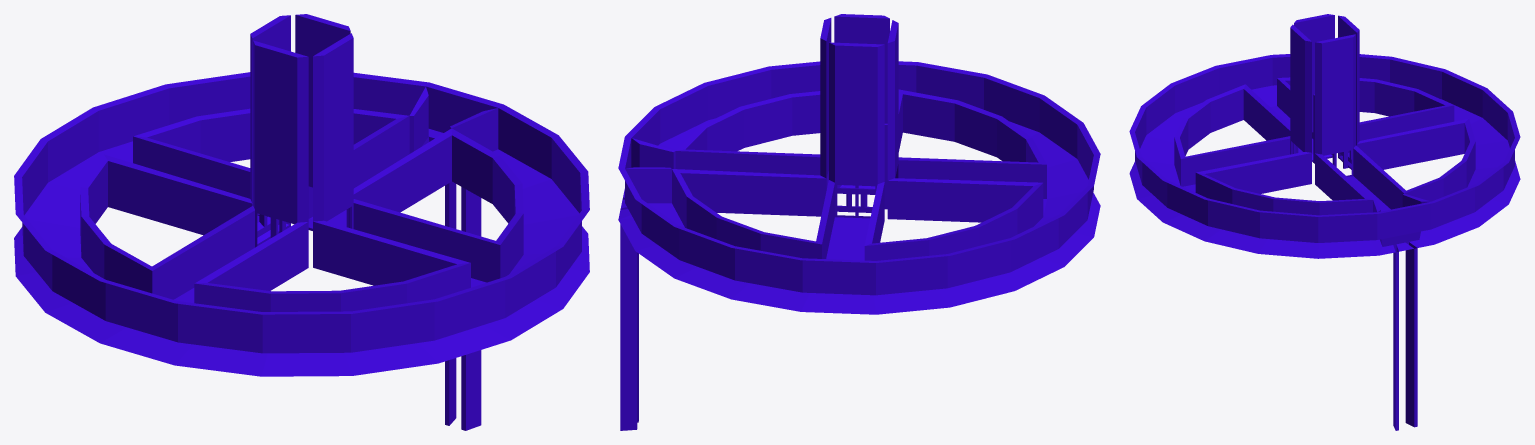
The model's file is HeavyHall.fbx.
The picture shows the model from 3 angles, left to right: view 1: azimuth 30°, elevation 25°; view 2: azimuth 150°, elevation 25°; view 3: azimuth 270°, elevation 25°; orthographic projection. The views are drawn at different scales.
Visible parts, largest first — view 1: Heavy_Vent_Halls; view 2: Heavy_Vent_Halls; view 3: Heavy_Vent_Halls.
Boxes of the visible parts, bbox=[...] form: Heavy_Vent_Halls: bbox=[14, 14, 589, 430]; Heavy_Vent_Halls: bbox=[618, 14, 1100, 430]; Heavy_Vent_Halls: bbox=[1129, 14, 1520, 430].
Bounding box in the file's own units: 8476 × 7800 × 8476.
